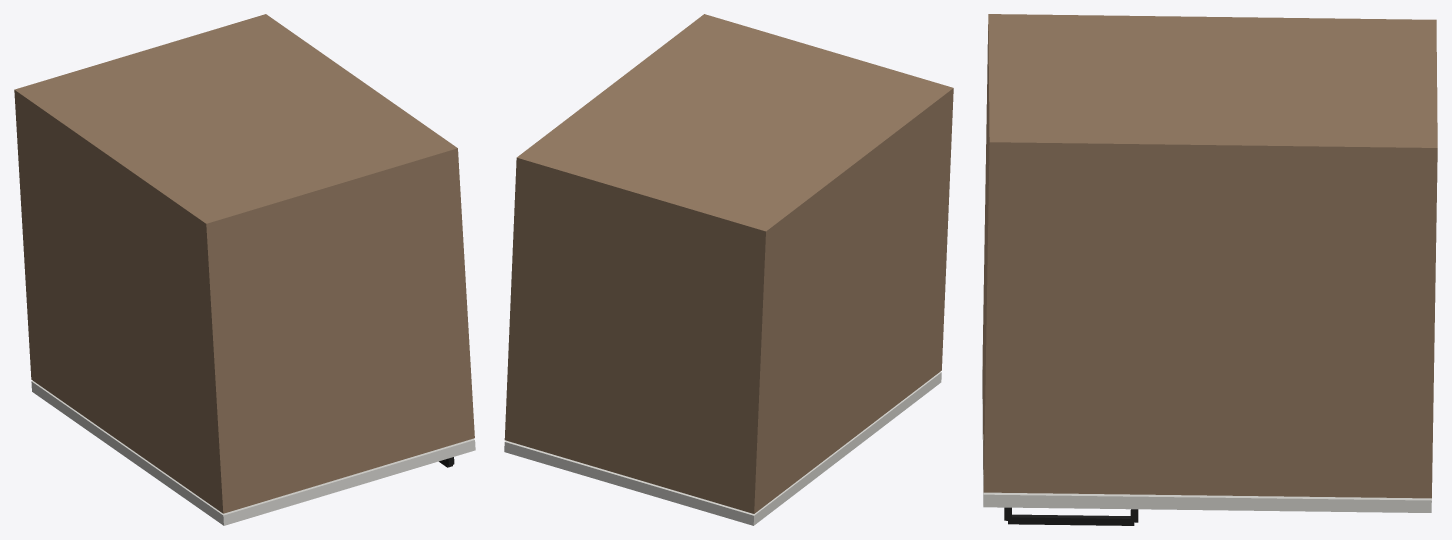
3 views of the same model, side by side, from view 1: azimuth 30°, elevation 25°; view 2: azimuth 150°, elevation 25°; view 3: azimuth 270°, elevation 25° (orthographic). The views are drawn at different scales.
Parts seen in each view (by area): view 1: cabinet_carcass/0, front_front/1; view 2: cabinet_carcass/0, front_front/1; view 3: cabinet_carcass/0, front_front/1, front_front/3.
Part boxes in pixels (x1,y1,x2,y2): cabinet_carcass/0: (14, 14, 474, 513); front_front/1: (31, 381, 475, 525); cabinet_carcass/0: (504, 14, 953, 513); front_front/1: (504, 371, 941, 525); cabinet_carcass/0: (982, 14, 1437, 498); front_front/1: (982, 366, 1431, 512); front_front/3: (1004, 507, 1138, 525).
Bounding box in the file's own units: 0.4805 × 0.5584 × 0.6025.
